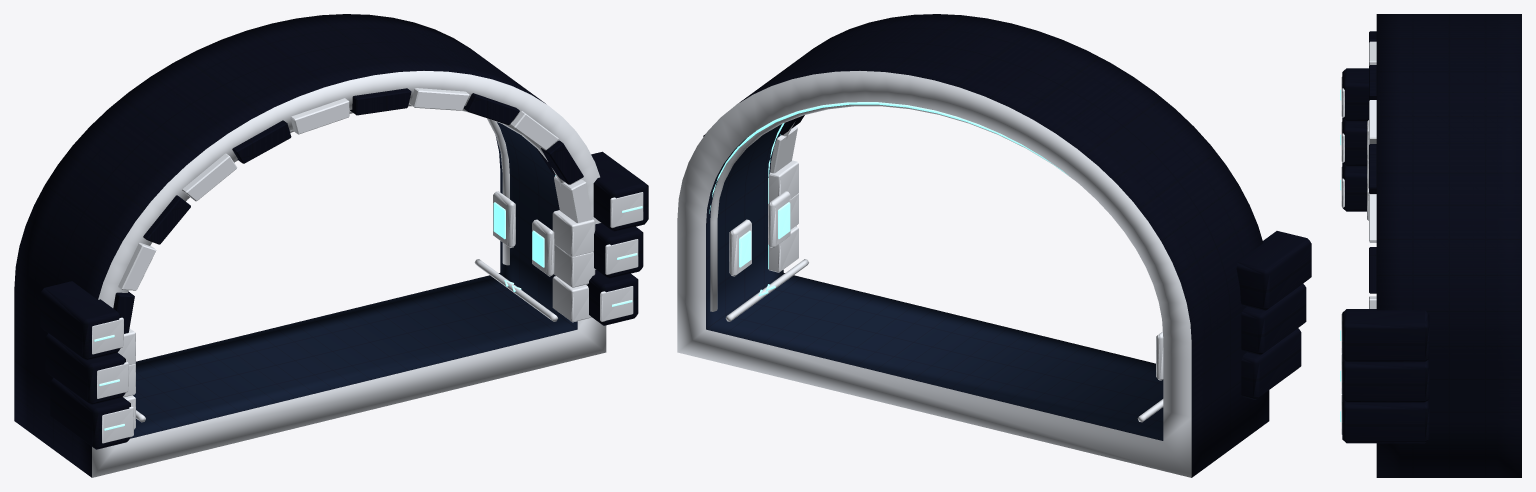
Rendered from portal_entry_lod1.glb.
3 renders of one model, left to right at view 1: azimuth 30°, elevation 25°; view 2: azimuth 150°, elevation 25°; view 3: azimuth 270°, elevation 25°, orthographic. The views are drawn at different scales.
Visible parts, largest first — view 1: TunnelGeometry.001; view 2: TunnelGeometry.001; view 3: TunnelGeometry.001.
Boxes of the visible parts, x1,y1,x2,y2 form: TunnelGeometry.001: [14, 14, 648, 477]; TunnelGeometry.001: [677, 14, 1311, 477]; TunnelGeometry.001: [1340, 14, 1521, 477].
Bounding box in the file's own units: 16.85 × 9.52 × 5.01.
4 materials, 2 textured.
